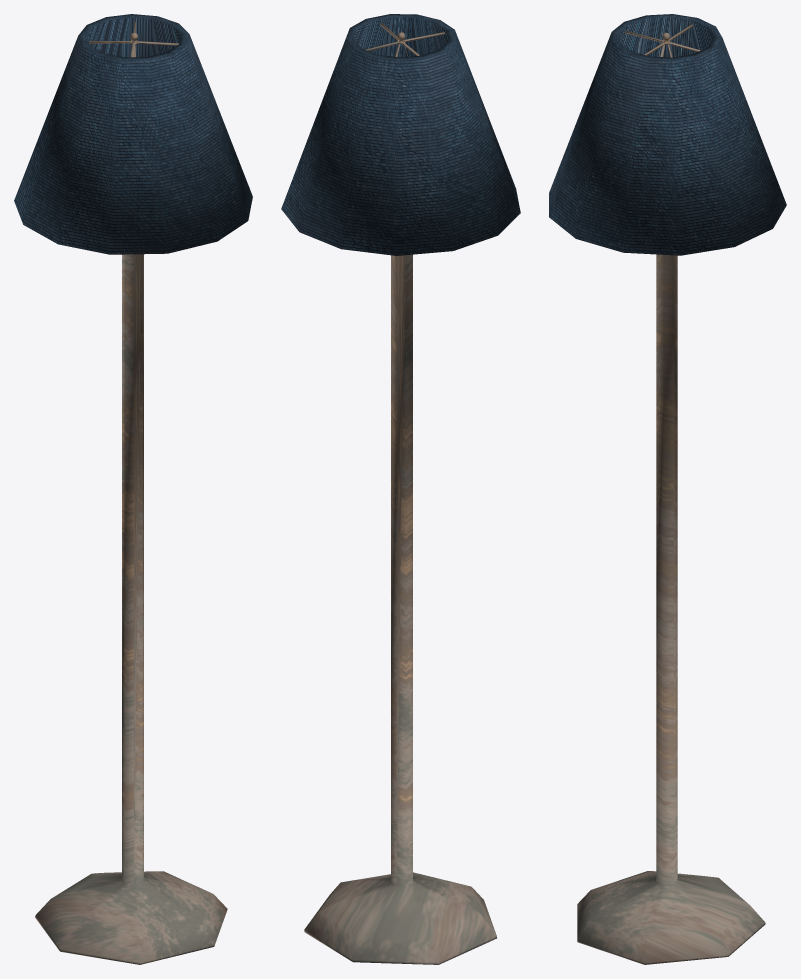
The picture shows the model from 3 angles, left to right: view 1: azimuth 30°, elevation 25°; view 2: azimuth 150°, elevation 25°; view 3: azimuth 270°, elevation 25°; orthographic projection.
Parts seen in each view (by area): view 1: Sphere.006_0; view 2: Sphere.006_0; view 3: Sphere.006_0.
Part boxes in pixels (x1,y1,x2,y2): Sphere.006_0: (14,14,252,964); Sphere.006_0: (281,14,520,964); Sphere.006_0: (549,14,786,964).
Size of the model in its own units: 0.4215 by 1.74 by 0.4184.
2 materials, 2 textured.
